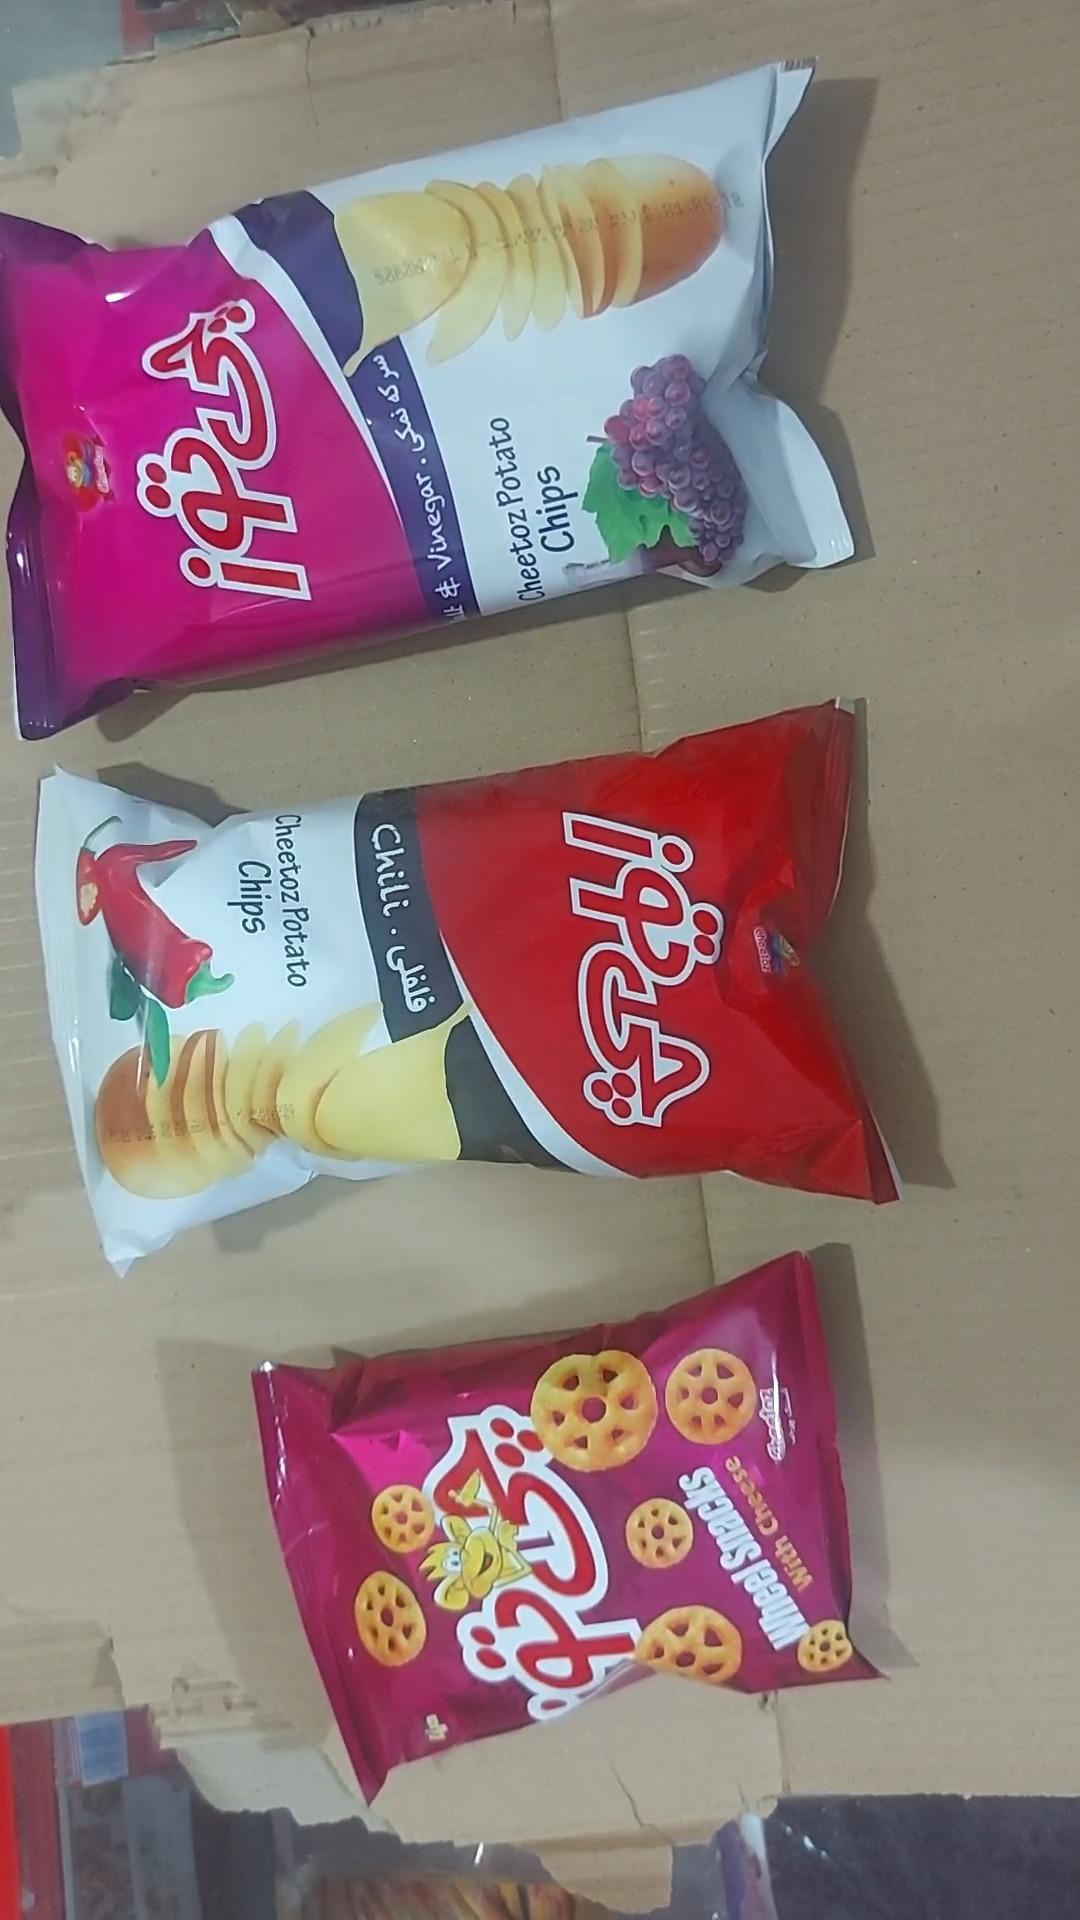Cheetoz chili chips: (34, 698, 902, 1279)
Cheetoz vinegar chips: (0, 61, 858, 745)
Cheetoz wheelsnack: (251, 1253, 884, 1808)
